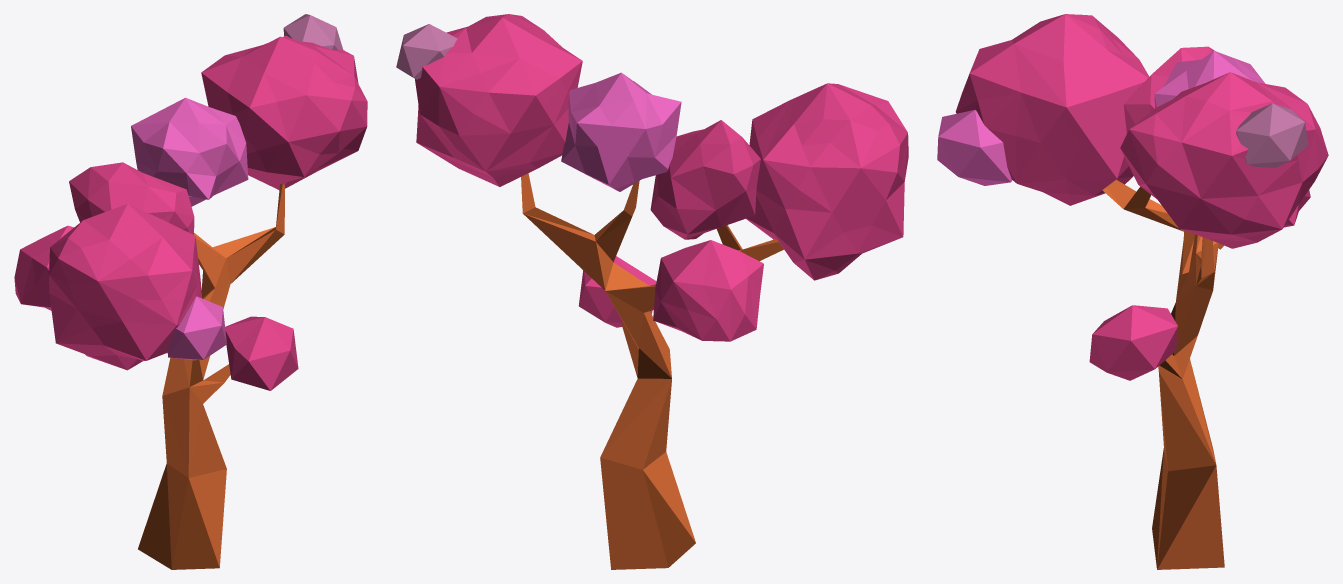
The model's file is tree-lv2.glb.
3 views of the same model, side by side, from view 1: azimuth 30°, elevation 25°; view 2: azimuth 150°, elevation 25°; view 3: azimuth 270°, elevation 25° (orthographic). The views are drawn at different scales.
Parts seen in each view (by area): view 1: Hojas.001, Tronco.001; view 2: Hojas.001, Tronco.001; view 3: Hojas.001, Tronco.001.
Part boxes in pixels (left/top/right/bottom): Hojas.001: left=14, top=14, right=367, bottom=390; Tronco.001: left=138, top=184, right=284, bottom=569; Hojas.001: left=396, top=14, right=908, bottom=341; Tronco.001: left=521, top=173, right=783, bottom=569; Hojas.001: left=937, top=14, right=1328, bottom=380; Tronco.001: left=1102, top=179, right=1224, bottom=569.
Size of the model in its own units: 1.72 by 2.14 by 1.38.
